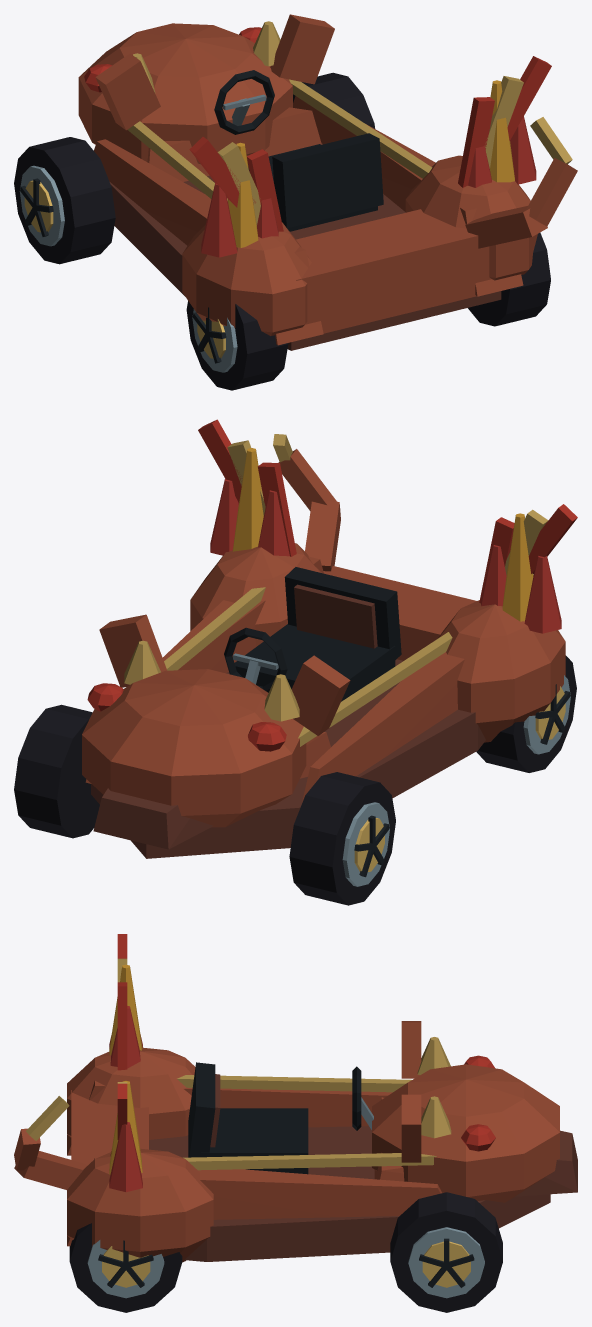
Rendered from kart.glb.
3 renders of one model, top to bottom at view 1: azimuth 30°, elevation 25°; view 2: azimuth 150°, elevation 25°; view 3: azimuth 270°, elevation 25°, orthographic. The views are drawn at different scales.
Visible parts, largest first — view 1: identity-beast-beast-sculpted-prow-and-haunches, identity-beast-driver-cockpit, wheel-front-left, identity-beast-motif-feathers, identity-beast-motif-fire, wheel-rear-left, identity-beast-motif-tail, wheel-rear-right, wheel-front-right; view 2: identity-beast-beast-sculpted-prow-and-haunches, identity-beast-driver-cockpit, wheel-front-left, identity-beast-motif-fire, wheel-front-right, identity-beast-motif-feathers, wheel-rear-left, identity-beast-motif-tail; view 3: identity-beast-beast-sculpted-prow-and-haunches, wheel-front-right, identity-beast-driver-cockpit, wheel-rear-right, identity-beast-motif-fire, identity-beast-motif-tail, identity-beast-motif-feathers.
Part boxes in pixels (<box>): identity-beast-beast-sculpted-prow-and-haunches: <box>78,14,537,350</box>; identity-beast-driver-cockpit: <box>214,70,383,231</box>; wheel-front-left: <box>14,137,115,264</box>; identity-beast-motif-feathers: <box>189,56,551,231</box>; identity-beast-motif-fire: <box>201,80,536,257</box>; wheel-rear-left: <box>186,301,288,390</box>; identity-beast-motif-tail: <box>465,117,577,248</box>; wheel-rear-right: <box>468,232,550,326</box>; wheel-front-right: <box>293,72,375,128</box>; identity-beast-beast-sculpted-prow-and-haunches: <box>82,543,565,858</box>; identity-beast-driver-cockpit: <box>224,567,401,701</box>; wheel-front-left: <box>289,772,395,905</box>; identity-beast-motif-fire: <box>210,448,561,633</box>; wheel-front-right: <box>14,704,99,838</box>; identity-beast-motif-feathers: <box>198,419,577,602</box>; wheel-rear-left: <box>476,655,576,772</box>; identity-beast-motif-tail: <box>273,434,340,571</box>; identity-beast-beast-sculpted-prow-and-haunches: <box>67,1021,577,1262</box>; wheel-front-right: <box>390,1192,502,1312</box>; identity-beast-driver-cockpit: <box>188,1062,373,1174</box>; wheel-rear-right: <box>69,1223,182,1312</box>; identity-beast-motif-fire: <box>109,964,142,1192</box>; identity-beast-motif-tail: <box>14,1096,86,1189</box>; identity-beast-motif-feathers: <box>117,934,127,1139</box>.
Size of the model in its own units: 2.18 by 1.47 by 3.2.
